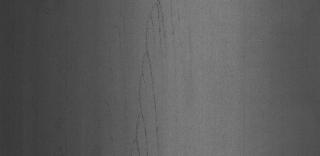water spot: (117, 5, 197, 152)
